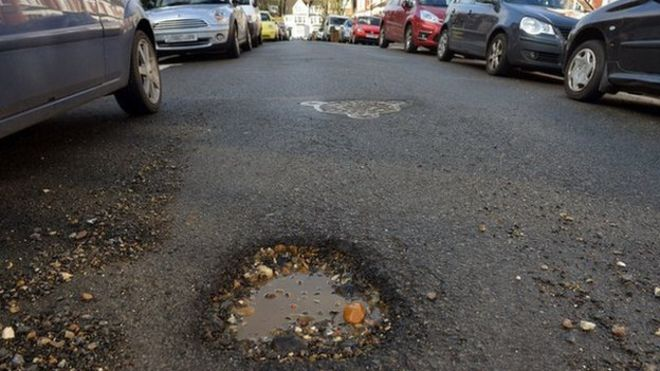pothole: (192, 224, 405, 362)
